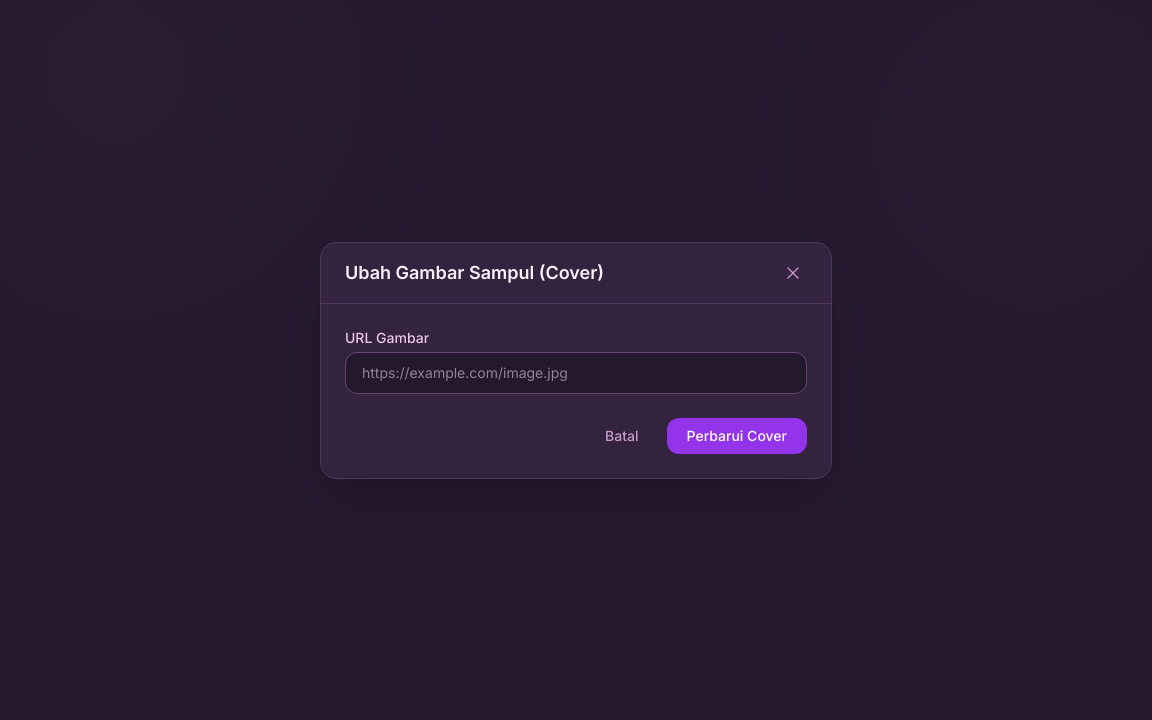
ChangeCoverModal › menampilkan pesan error saat gagal
The image size is (1152, 720).
Step 1. Type "https://img.test/a.png" into the field labelled "URL Gambar" → {"x": 576, "y": 372}, box [345,352,807,394]
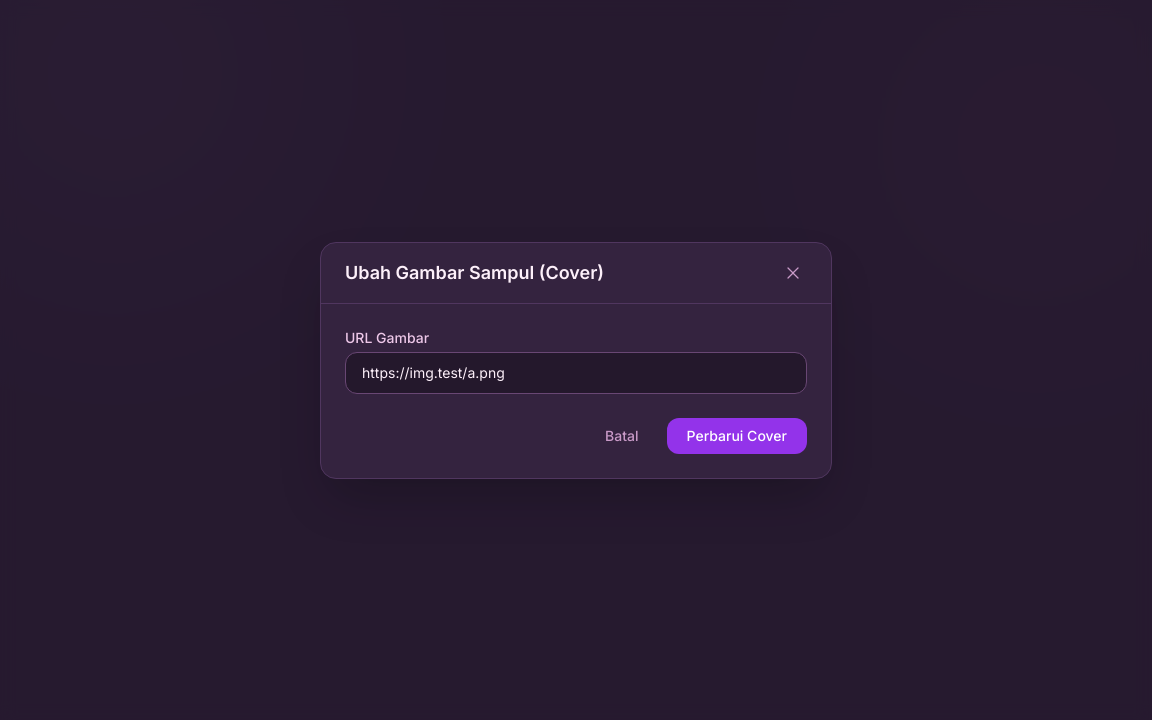
Step 2. Submit the form, box [345,328,807,454]
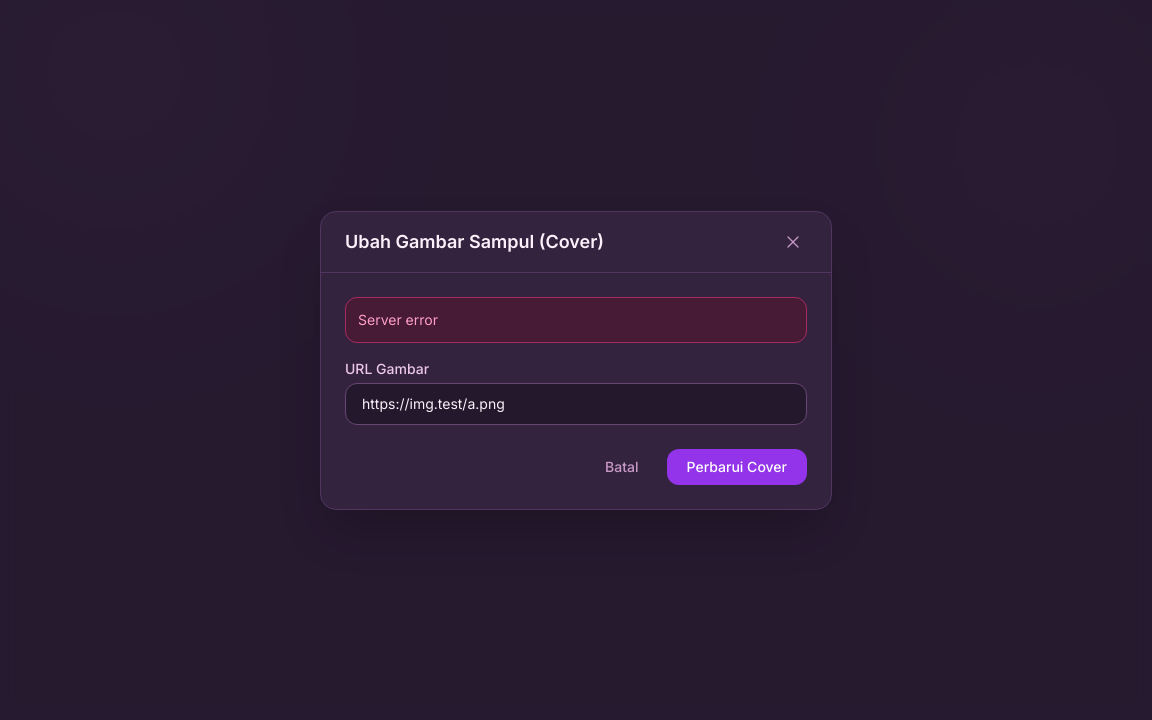
Expected: the message reads "Server error", [358,310,438,328]
